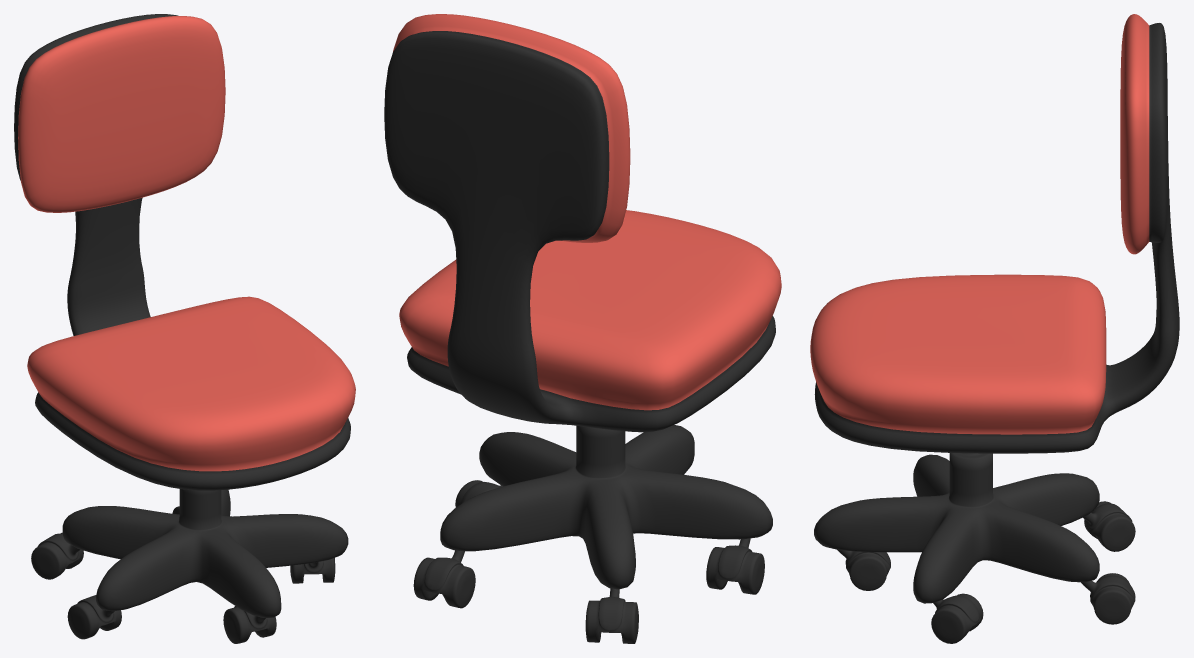
Rendered from OfficeChair.fbx.
3 renders of one model, left to right at view 1: azimuth 30°, elevation 25°; view 2: azimuth 150°, elevation 25°; view 3: azimuth 270°, elevation 25°, orthographic. The views are drawn at different scales.
Parts seen in each view (by area): view 1: Chair, Stand, Wheel.004, Wheel.001, Wheel, Wheel.002; view 2: Chair, Stand, Wheel.003, Wheel.001, Wheel.004, Wheel.002; view 3: Chair, Stand, Wheel.002, Wheel.003, Wheel.004, Wheel.
Part boxes in pixels (x1=…): Chair: x1=14, y1=14, x2=355, y2=490; Stand: x1=62, y1=489, x2=348, y2=617; Wheel.004: x1=31, y1=532, x2=83, y2=579; Wheel.001: x1=67, y1=595, x2=121, y2=639; Wheel: x1=223, y1=606, x2=276, y2=643; Wheel.002: x1=290, y1=558, x2=335, y2=583; Chair: x1=384, y1=14, x2=781, y2=432; Stand: x1=440, y1=425, x2=772, y2=589; Wheel.003: x1=413, y1=550, x2=475, y2=608; Wheel.001: x1=706, y1=538, x2=764, y2=594; Wheel.004: x1=585, y1=588, x2=638, y2=643; Wheel.002: x1=455, y1=480, x2=502, y2=507; Chair: x1=810, y1=14, x2=1179, y2=453; Stand: x1=814, y1=453, x2=1099, y2=603; Wheel.002: x1=931, y1=593, x2=983, y2=643; Wheel.003: x1=1081, y1=573, x2=1135, y2=624; Wheel.004: x1=1083, y1=501, x2=1135, y2=551; Wheel: x1=837, y1=549, x2=890, y2=590.
Bounding box in the file's own units: 182 × 349 × 216.
